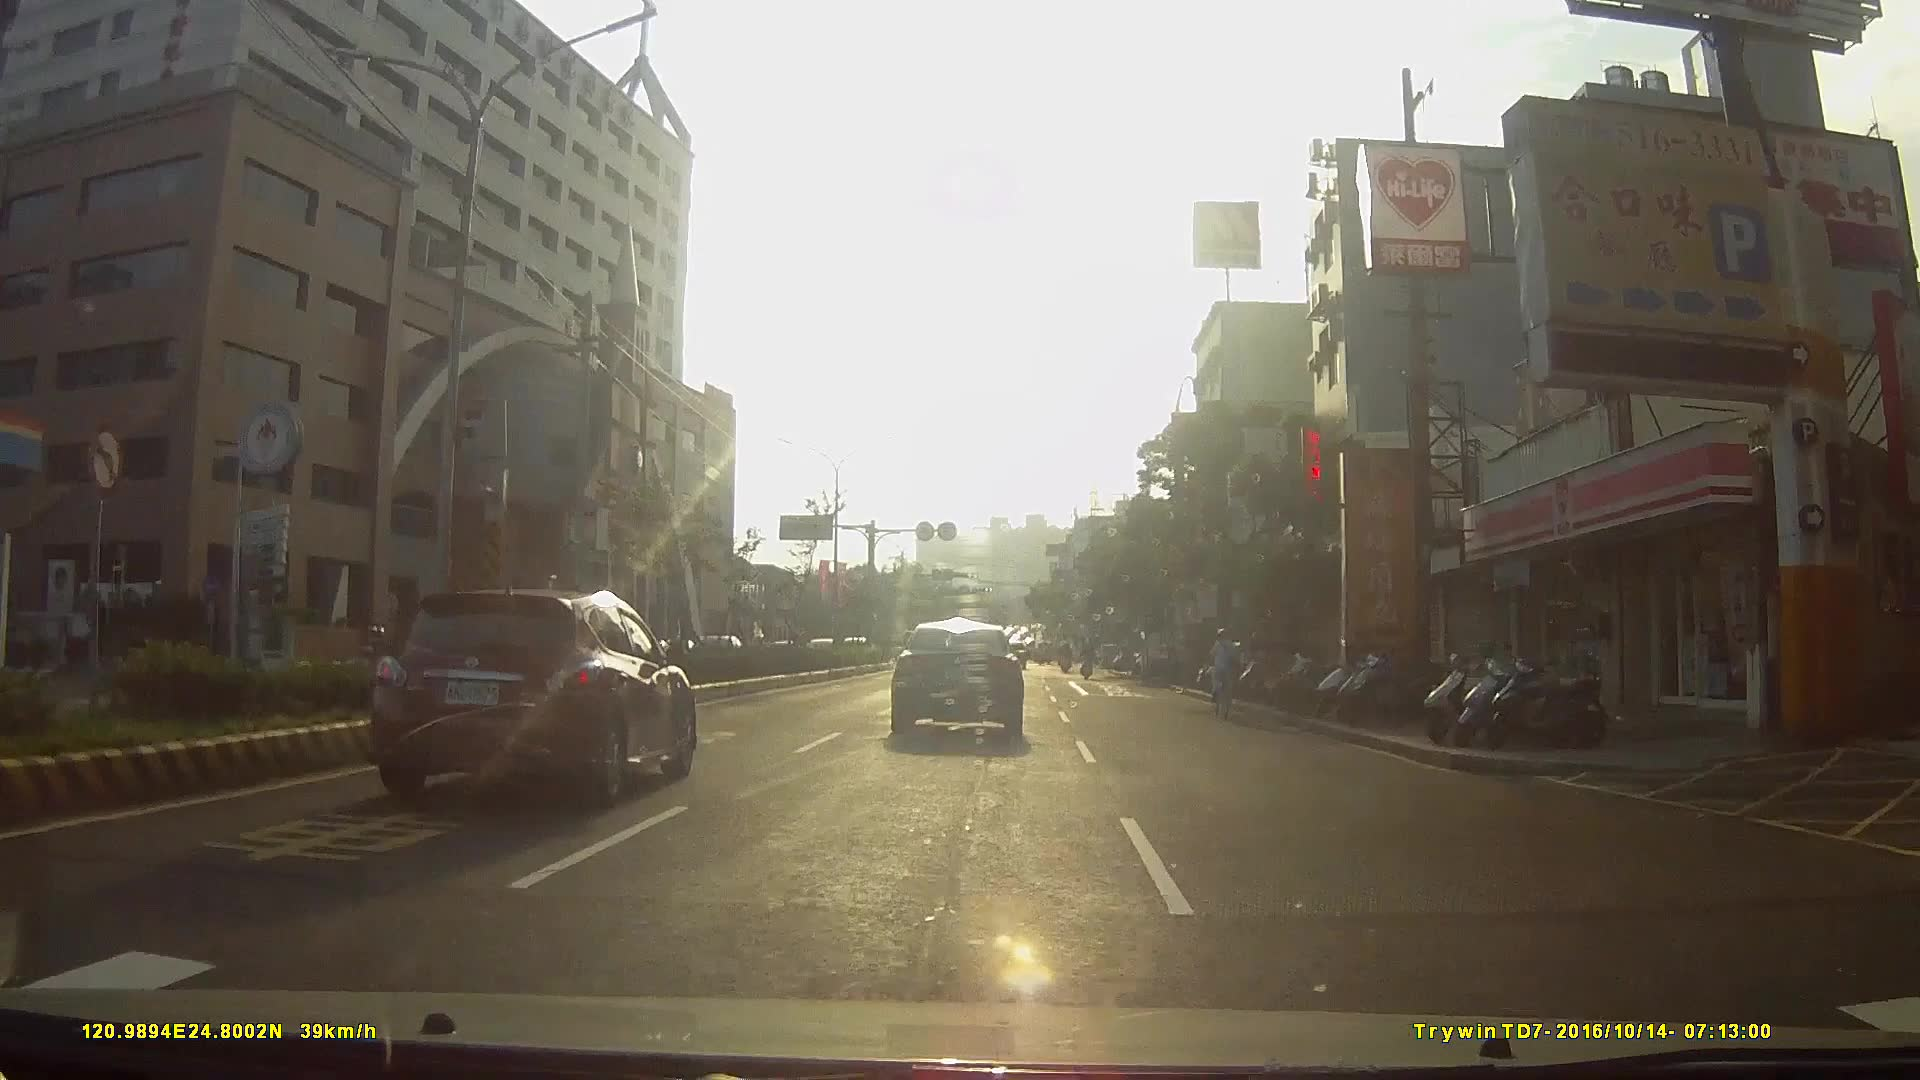rider: (1204, 629, 1243, 714)
vehicle: (357, 571, 713, 806), (888, 615, 1040, 749), (763, 607, 822, 662), (1133, 626, 1188, 681)
